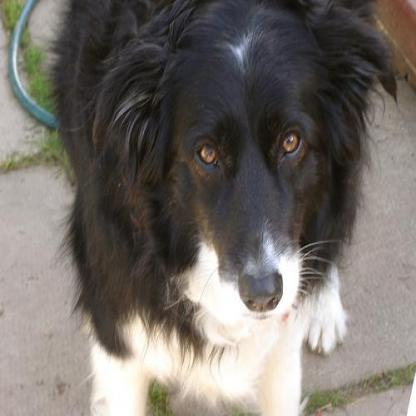Border_collie: (39, 0, 402, 414)
